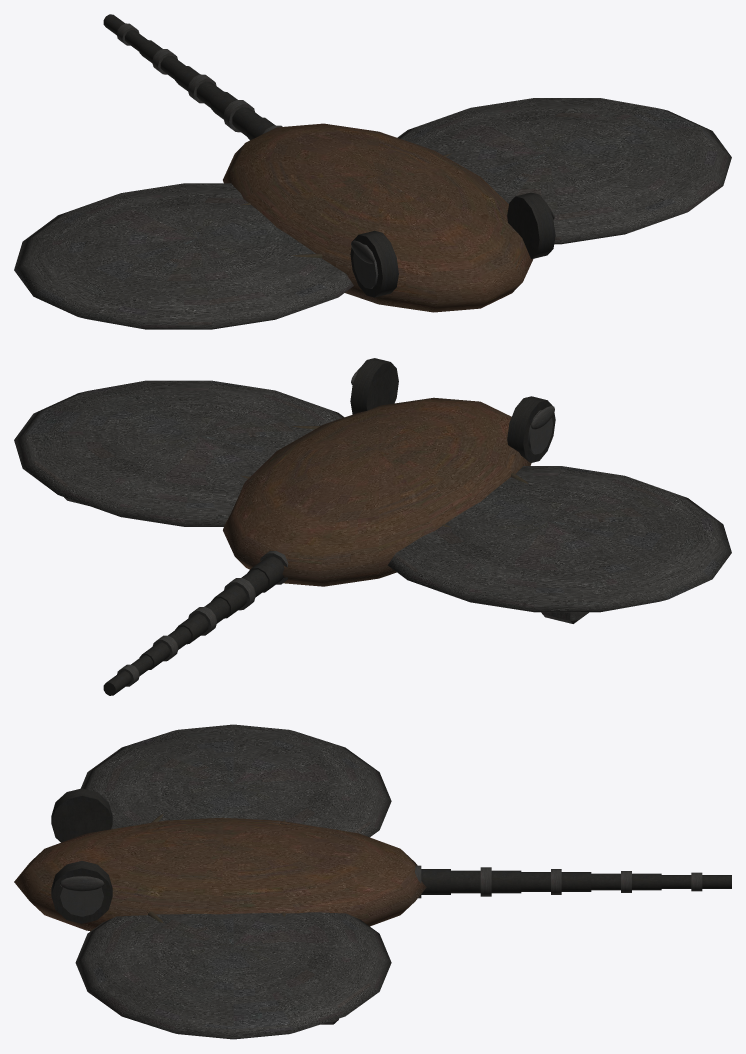
The model's file is wild-miknatis-vatoz.glb.
3 renders of one model, top to bottom at view 1: azimuth 30°, elevation 25°; view 2: azimuth 150°, elevation 25°; view 3: azimuth 270°, elevation 25°, orthographic. The views are drawn at different scales.
Visible parts, largest first — view 1: MiknatisVatoz__Body_Mesh, MiknatisVatoz__Fin_L_Mesh, MiknatisVatoz__Fin_R_Mesh, MiknatisVatoz__Head_Mesh, MiknatisVatoz__TailTip1_Mesh, MiknatisVatoz__TailTip2_Mesh, MiknatisVatoz__TailTip3_Mesh, MiknatisVatoz__TailTip4_Mesh; view 2: MiknatisVatoz__Body_Mesh, MiknatisVatoz__Fin_L_Mesh, MiknatisVatoz__Fin_R_Mesh, MiknatisVatoz__Head_Mesh, MiknatisVatoz__TailTip1_Mesh, MiknatisVatoz__TailTip2_Mesh, MiknatisVatoz__TailTip3_Mesh, MiknatisVatoz__TailTip4_Mesh, MiknatisVatoz__Tail_Mesh; view 3: MiknatisVatoz__Fin_R_Mesh, MiknatisVatoz__Body_Mesh, MiknatisVatoz__Fin_L_Mesh, MiknatisVatoz__Head_Mesh, MiknatisVatoz__TailTip1_Mesh, MiknatisVatoz__TailTip2_Mesh, MiknatisVatoz__TailTip3_Mesh, MiknatisVatoz__TailTip4_Mesh, MiknatisVatoz__Tail_Mesh, MiknatisVatoz__Lid_R_Mesh.
Part boxes in pixels (<box>): MiknatisVatoz__Body_Mesh: <box>223,123,533,312</box>; MiknatisVatoz__Fin_L_Mesh: <box>14,183,353,329</box>; MiknatisVatoz__Fin_R_Mesh: <box>397,98,731,244</box>; MiknatisVatoz__Head_Mesh: <box>350,192,555,297</box>; MiknatisVatoz__TailTip1_Mesh: <box>211,91,261,135</box>; MiknatisVatoz__TailTip2_Mesh: <box>175,65,223,107</box>; MiknatisVatoz__TailTip3_Mesh: <box>139,40,185,79</box>; MiknatisVatoz__TailTip4_Mesh: <box>103,14,147,51</box>; MiknatisVatoz__Body_Mesh: <box>223,397,531,586</box>; MiknatisVatoz__Fin_L_Mesh: <box>387,466,731,623</box>; MiknatisVatoz__Fin_R_Mesh: <box>14,380,344,526</box>; MiknatisVatoz__Head_Mesh: <box>350,358,555,462</box>; MiknatisVatoz__TailTip1_Mesh: <box>211,569,268,618</box>; MiknatisVatoz__TailTip2_Mesh: <box>175,598,229,644</box>; MiknatisVatoz__TailTip3_Mesh: <box>139,626,191,669</box>; MiknatisVatoz__TailTip4_Mesh: <box>103,655,152,695</box>; MiknatisVatoz__Tail_Mesh: <box>247,551,288,592</box>; MiknatisVatoz__Fin_R_Mesh: <box>75,911,391,1039</box>; MiknatisVatoz__Body_Mesh: <box>14,817,426,931</box>; MiknatisVatoz__Fin_L_Mesh: <box>81,724,391,837</box>; MiknatisVatoz__Head_Mesh: <box>51,788,112,923</box>; MiknatisVatoz__TailTip1_Mesh: <box>451,867,521,896</box>; MiknatisVatoz__TailTip2_Mesh: <box>521,869,591,894</box>; MiknatisVatoz__TailTip3_Mesh: <box>591,871,661,892</box>; MiknatisVatoz__TailTip4_Mesh: <box>661,872,731,891</box>; MiknatisVatoz__Tail_Mesh: <box>415,865,450,898</box>; MiknatisVatoz__Lid_R_Mesh: <box>59,876,104,891</box>.
Size of the model in its own units: 3.38 by 0.47 by 3.27.
Materials: 7 (7 with a texture image).
